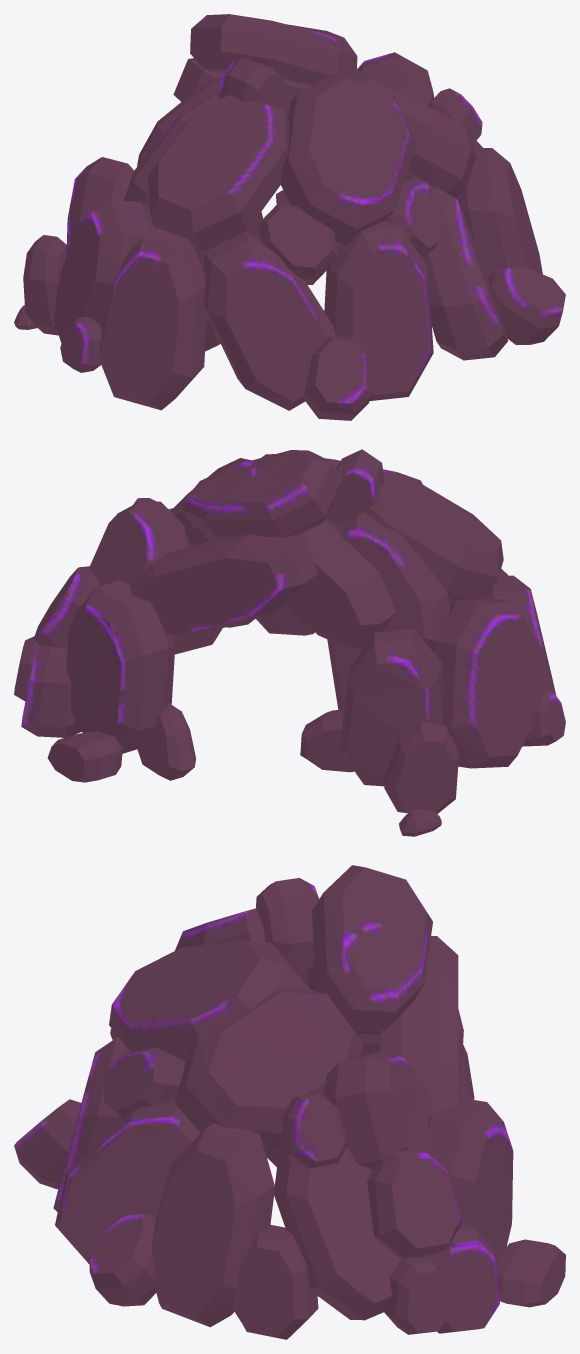
Rendered from CaveOfSolitude.glb.
3 views of the same model, one above another, from view 1: azimuth 30°, elevation 25°; view 2: azimuth 150°, elevation 25°; view 3: azimuth 270°, elevation 25° (orthographic). The views are drawn at different scales.
Parts seen in each view (by area): view 1: CaveOfSolitude; view 2: CaveOfSolitude; view 3: CaveOfSolitude.
Part boxes in pixels (<box>): CaveOfSolitude: <box>14,14,565,420</box>; CaveOfSolitude: <box>14,449,565,836</box>; CaveOfSolitude: <box>14,865,565,1339</box>.
Bounding box in the file's own units: 0.2431 × 0.149 × 0.2141.
1 material, 1 textured.
